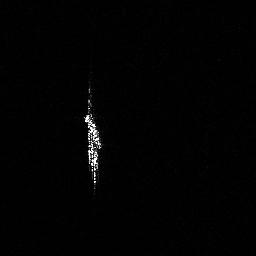ship: (80, 86, 107, 190)
